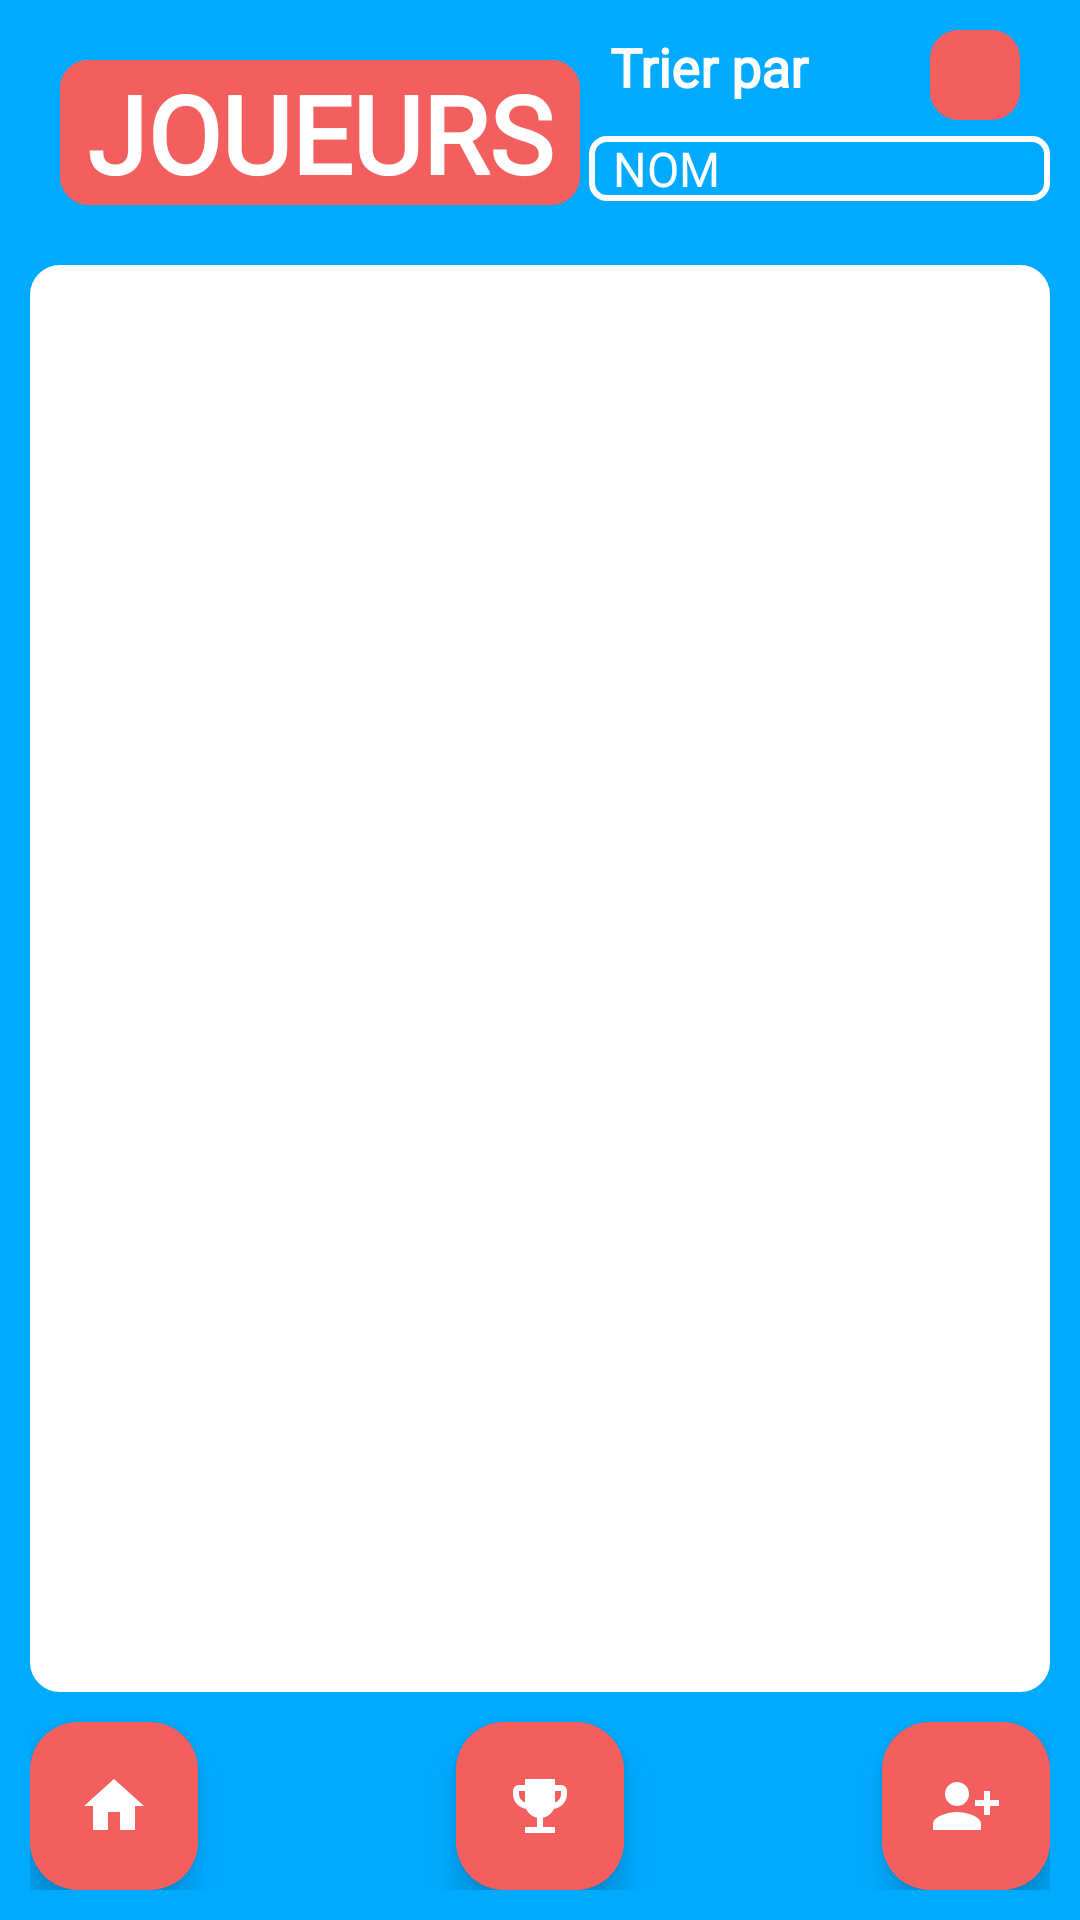

Icons on this 1080px×1920px Android screen, each with its box as [x1,y1,x2,y2]:
add player: [882,1722,1050,1890]
home: [30,1722,198,1890]
matchs: [456,1722,624,1890]
